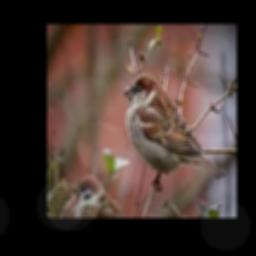Sparrow: (123, 73, 226, 189)
